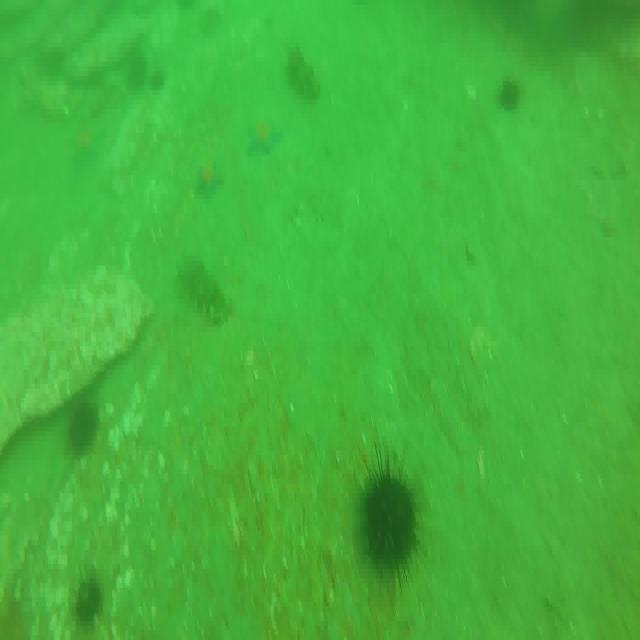echinus: (359, 457, 424, 579), (66, 396, 102, 456), (74, 573, 105, 631), (498, 74, 522, 114), (125, 52, 148, 91)
holothurian: (175, 256, 229, 324), (284, 46, 321, 104)
starfish: (71, 121, 105, 164), (246, 114, 280, 156), (196, 159, 222, 198)
